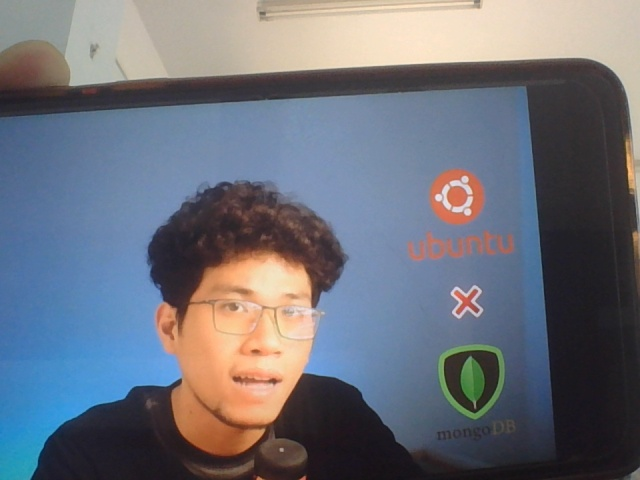fake: (166, 203, 323, 425)
